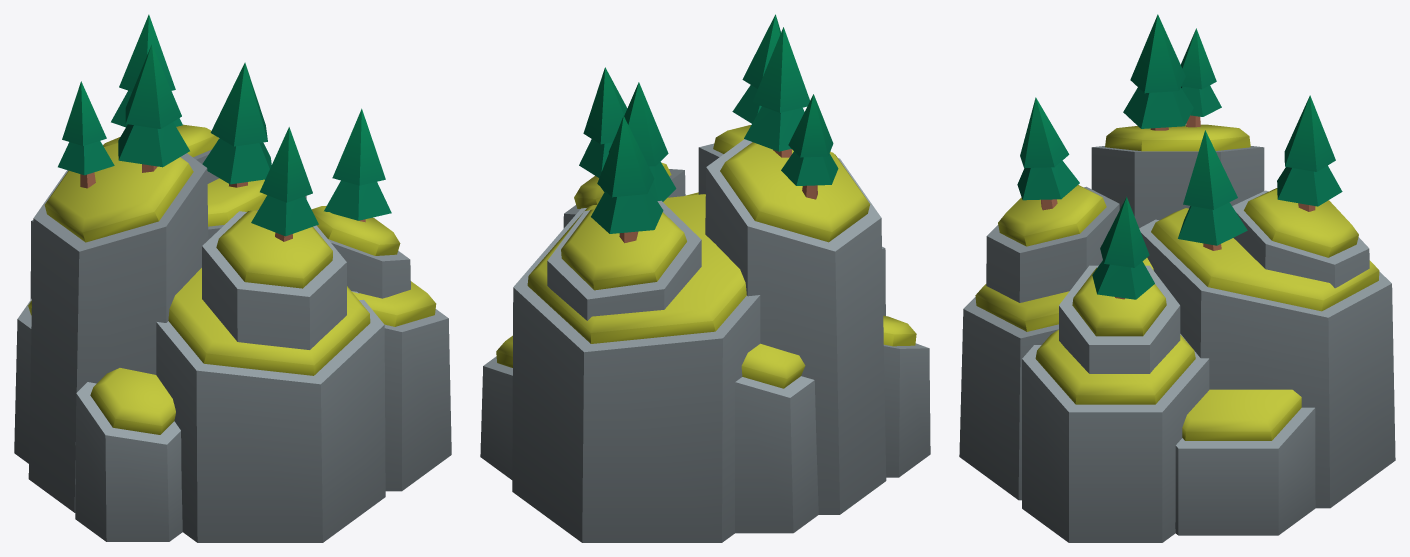
The model's file is mountain_C_grass_trees.gltf.
The picture shows the model from 3 angles, left to right: view 1: azimuth 30°, elevation 25°; view 2: azimuth 150°, elevation 25°; view 3: azimuth 270°, elevation 25°; orthographic projection. The views are drawn at different scales.
Parts seen in each view (by area): view 1: mountain_C_grass_trees; view 2: mountain_C_grass_trees; view 3: mountain_C_grass_trees.
Boxes of the visible parts, x1,y1,x2,y2 form: mountain_C_grass_trees: (14,14,451,542); mountain_C_grass_trees: (480,14,930,542); mountain_C_grass_trees: (959,14,1395,542).
Bounding box in the file's own units: 1.76 × 2.11 × 2.02.
Materials: 1 (1 with a texture image).
